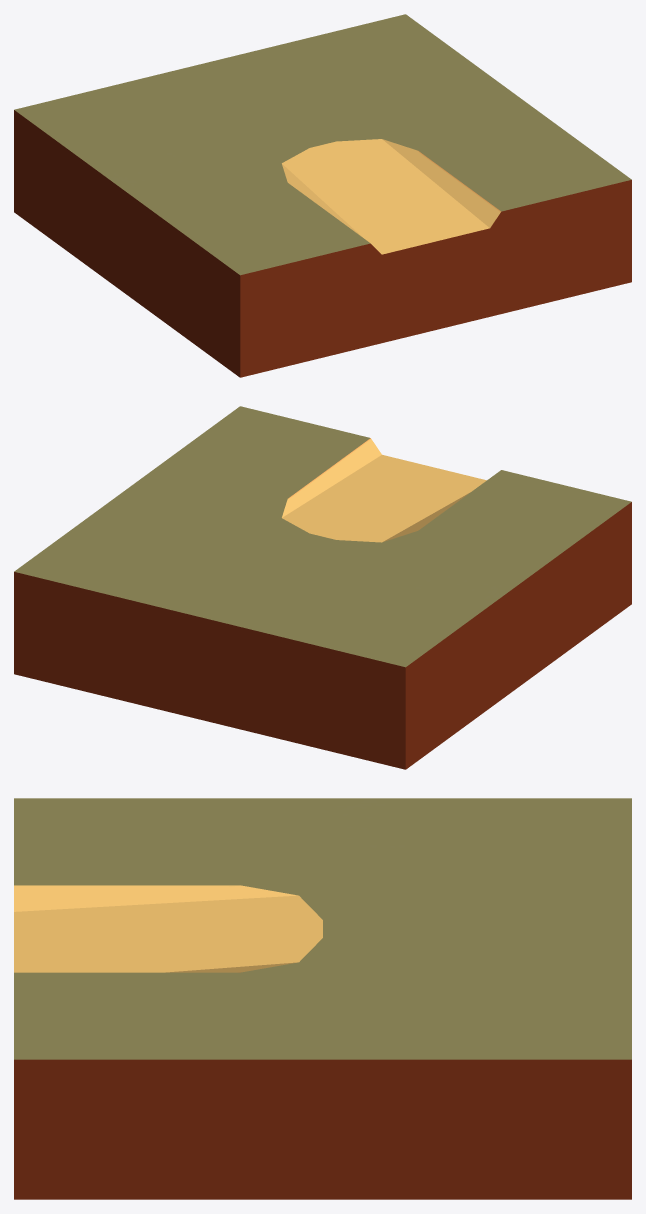
File: pathEnd.fbx
3 views of the same model, one above another, from view 1: azimuth 30°, elevation 25°; view 2: azimuth 150°, elevation 25°; view 3: azimuth 270°, elevation 25° (orthographic). The views are drawn at different scales.
Parts seen in each view (by area): view 1: pathEnd; view 2: pathEnd; view 3: pathEnd.
Part boxes in pixels (x1,y1,x2,y2): pathEnd: [14, 14, 631, 377]; pathEnd: [14, 406, 631, 769]; pathEnd: [14, 798, 631, 1199].
Bounding box in the file's own units: 200 × 50 × 200.
Materials: 1 (1 with a texture image).
